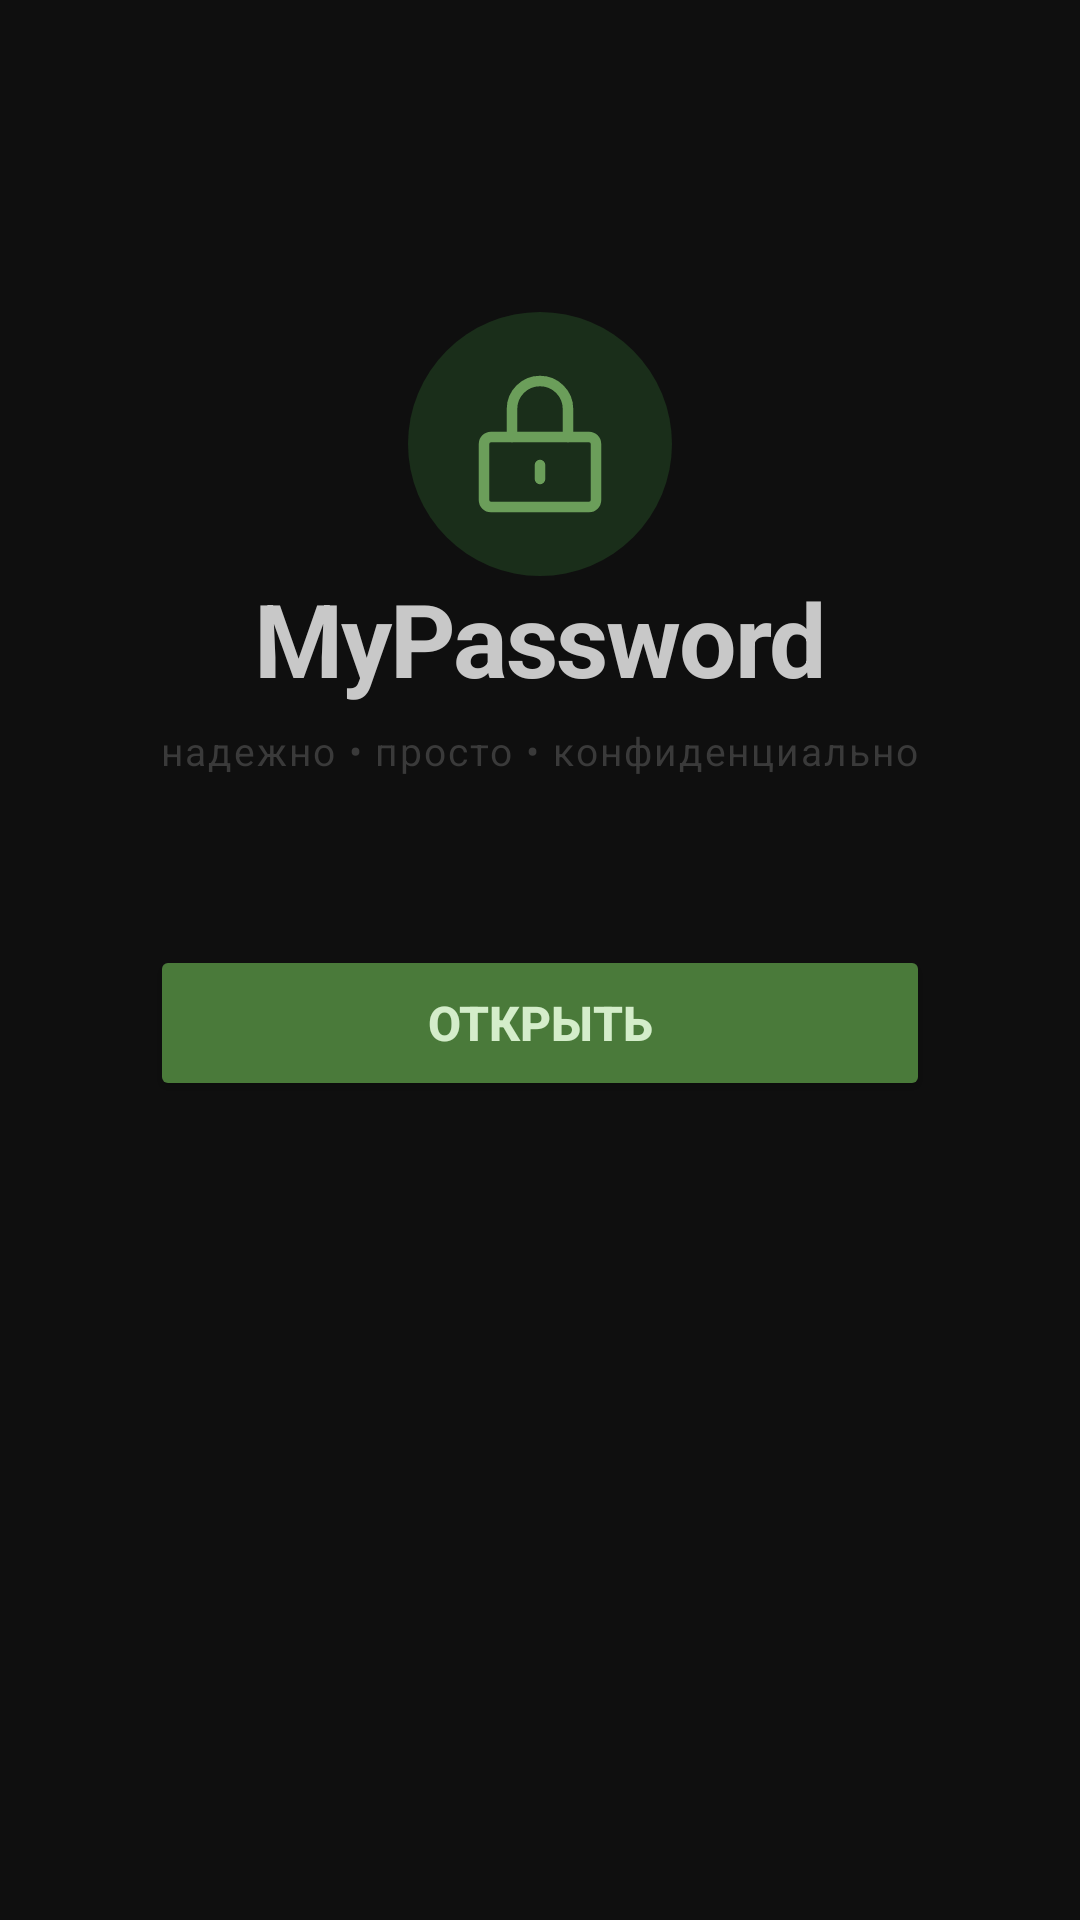

Where icons sit on this 1080x1920 app screen, as {"x1": x1, "y1": y1, "x2": x2, "y2": y2}:
lock: {"x1": 478, "y1": 375, "x2": 602, "y2": 513}
